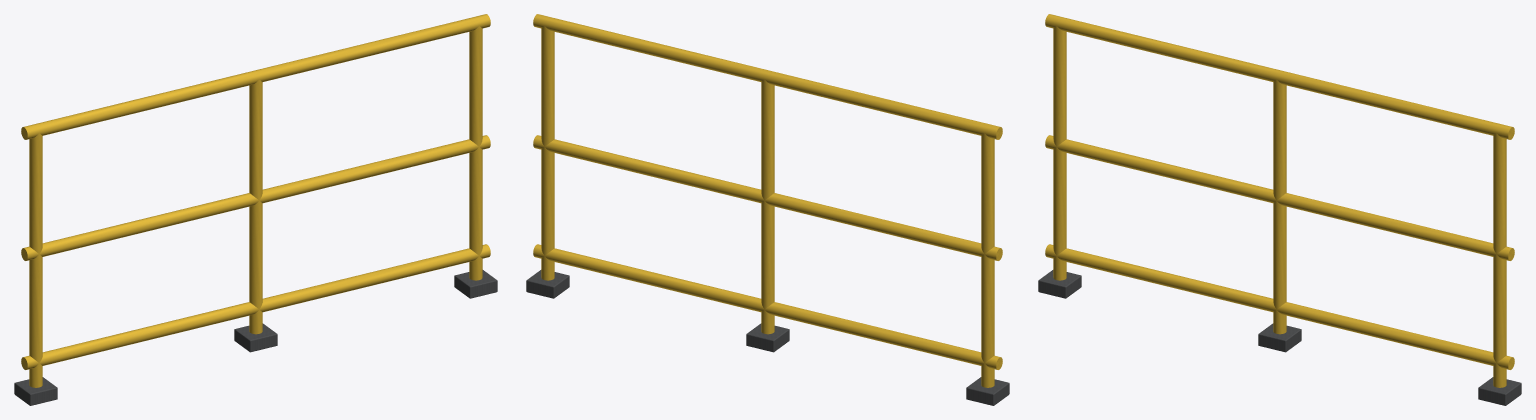
The model's file is railing.glb.
3 renders of one model, left to right at view 1: azimuth 30°, elevation 25°; view 2: azimuth 150°, elevation 25°; view 3: azimuth 330°, elevation 25°, orthographic.
Parts seen in each view (by area): view 1: horizontal_rail.002, horizontal_rail.001, horizontal_rail, post.024, post.023, post.022, post_base.002, post_base, post_base.001; view 2: horizontal_rail.002, horizontal_rail.001, horizontal_rail, post.024, post.023, post.022, post_base.002, post_base, post_base.001; view 3: horizontal_rail.002, horizontal_rail.001, horizontal_rail, post.022, post.023, post.024, post_base, post_base.001, post_base.002.
Boxes of the visible parts, left/top/right/bottom form: horizontal_rail.002: left=21, top=14, right=490, bottom=139; horizontal_rail.001: left=21, top=135, right=490, bottom=260; horizontal_rail: left=21, top=244, right=490, bottom=369; post.024: left=469, top=26, right=482, bottom=280; post.023: left=249, top=79, right=262, bottom=334; post.022: left=29, top=133, right=42, bottom=387; post_base.002: left=454, top=270, right=497, bottom=298; post_base: left=14, top=377, right=57, bottom=405; post_base.001: left=234, top=323, right=277, bottom=352; horizontal_rail.002: left=533, top=14, right=1002, bottom=139; horizontal_rail.001: left=533, top=135, right=1002, bottom=260; horizontal_rail: left=533, top=244, right=1002, bottom=369; post.024: left=541, top=26, right=554, bottom=280; post.023: left=761, top=79, right=774, bottom=334; post.022: left=981, top=133, right=994, bottom=387; post_base.002: left=526, top=270, right=569, bottom=298; post_base: left=966, top=377, right=1009, bottom=405; post_base.001: left=746, top=323, right=789, bottom=352; horizontal_rail.002: left=1045, top=14, right=1514, bottom=139; horizontal_rail.001: left=1045, top=135, right=1514, bottom=260; horizontal_rail: left=1045, top=244, right=1514, bottom=369; post.022: left=1053, top=26, right=1066, bottom=280; post.023: left=1273, top=79, right=1286, bottom=334; post.024: left=1493, top=133, right=1506, bottom=387; post_base: left=1038, top=270, right=1081, bottom=298; post_base.001: left=1258, top=323, right=1301, bottom=352; post_base.002: left=1478, top=377, right=1521, bottom=405.
Size of the model in its own units: 2.02 by 1.13 by 0.12.
2 materials, 2 textured.
